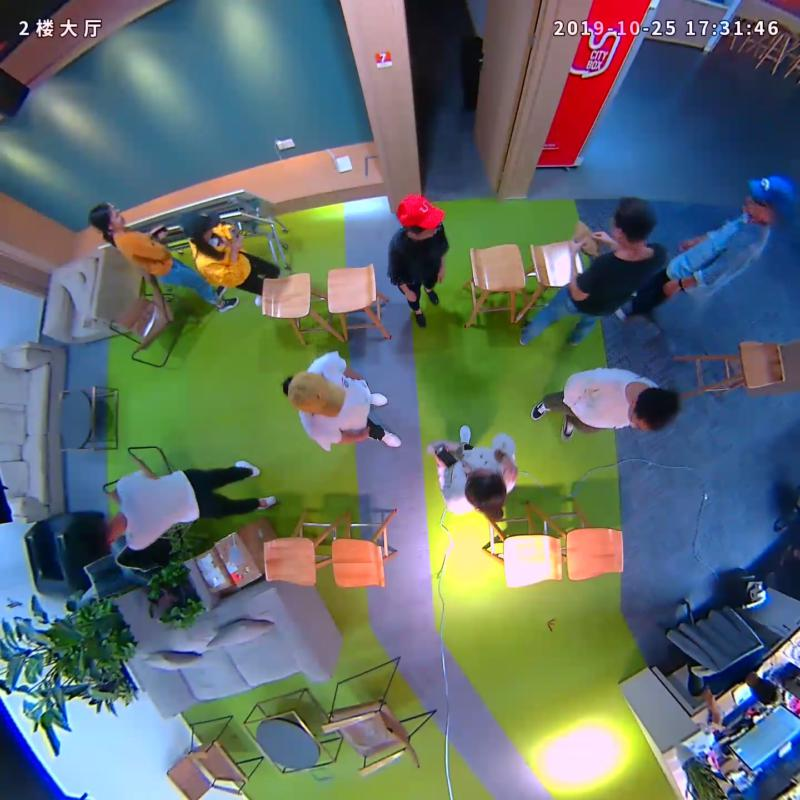head: (286, 370, 347, 420), (627, 384, 680, 434), (743, 174, 794, 223), (393, 192, 446, 235), (612, 197, 656, 246), (463, 467, 507, 511), (71, 518, 112, 553), (179, 209, 220, 242), (87, 203, 126, 231)
